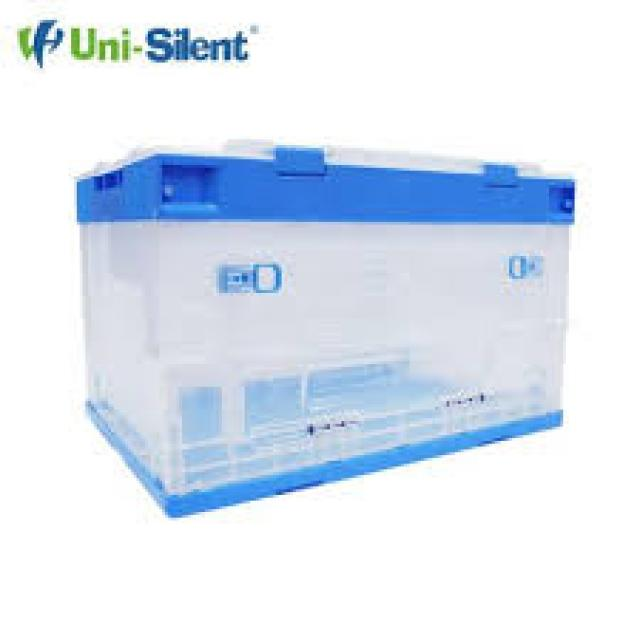basket: (59, 133, 579, 539)
